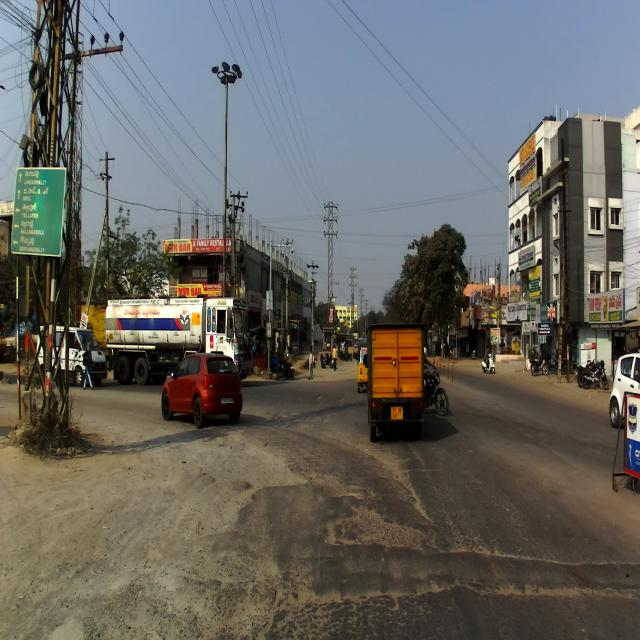barrier ahead at: (610, 357, 640, 480)
car ahead at: (160, 340, 243, 432)
electric pole ahead at: (16, 0, 88, 465)
truck ahead at: (102, 294, 248, 376), (355, 313, 426, 449)
